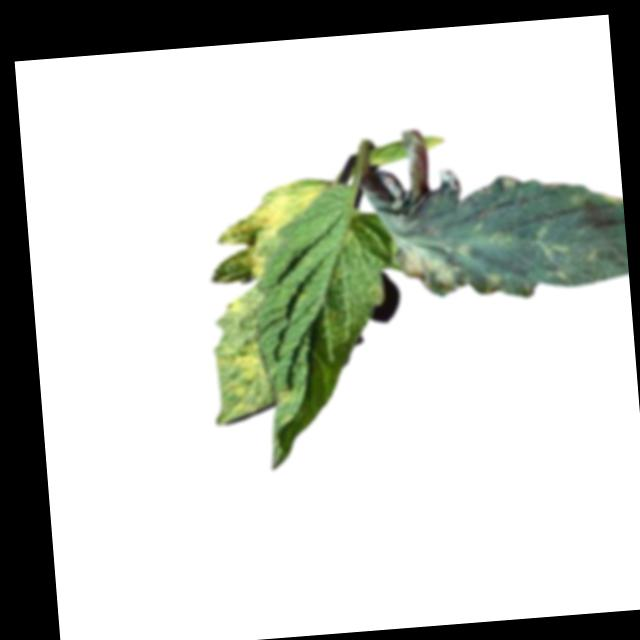Leaf_Mold: (204, 178, 335, 286), (207, 282, 274, 426), (391, 234, 468, 302), (481, 270, 509, 298)
